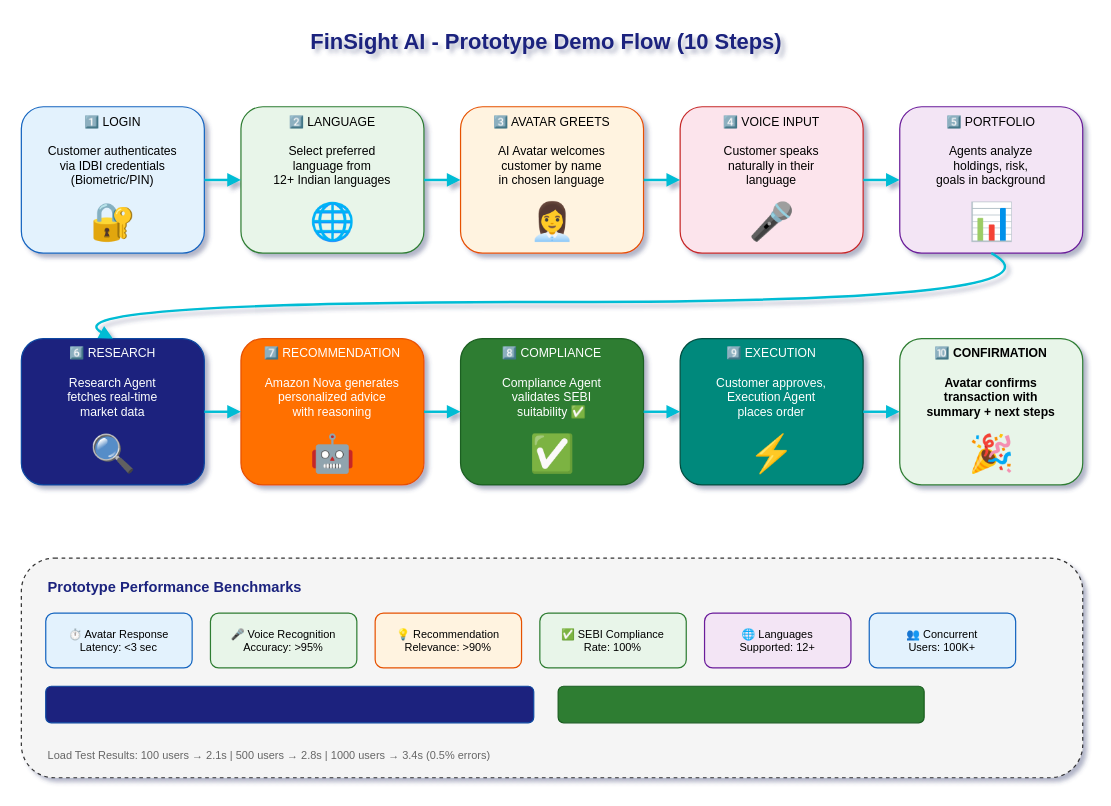
The diagram is 1111 pixels wide and 806 high, and some of its shapes have lost their labels. The shapes that lost their labels are listed below. From the top down, each one's centre as x and y in pixels, then its label:
At [289,704]: "💰 Cost/Session: ₹3.2 (vs ₹500+ human RM) — 99% cost reduction".
At [740,704]: "⬆️ Availability: 99.9% | Satisfaction: 4.6/5".
